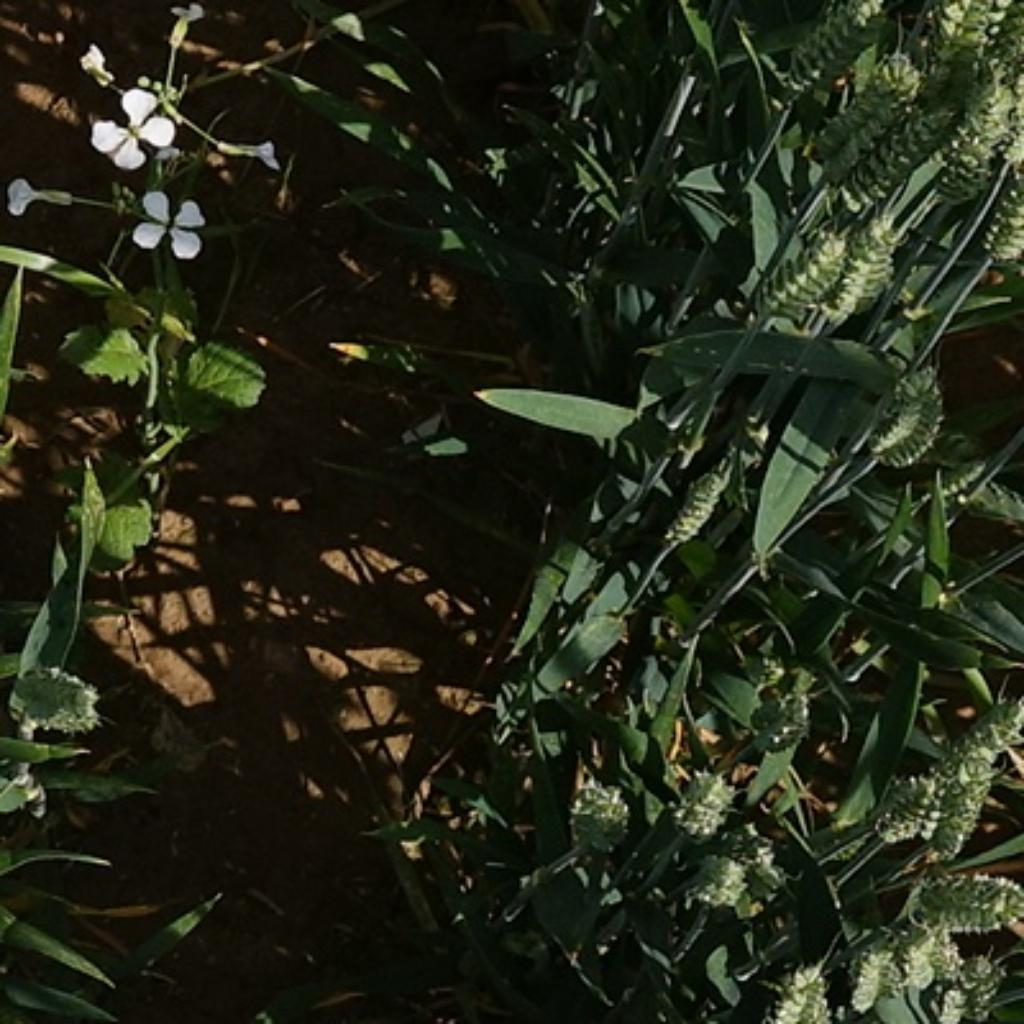0-0: (928, 73, 1013, 225), (842, 104, 940, 219), (742, 225, 847, 332), (908, 704, 1018, 801), (832, 61, 926, 174), (775, 2, 883, 94), (865, 353, 952, 465), (901, 865, 1024, 936), (10, 662, 107, 749), (916, 454, 1024, 532), (834, 215, 916, 317), (737, 665, 821, 755), (924, 768, 1000, 865), (663, 760, 747, 844), (662, 456, 736, 549), (562, 776, 632, 853), (678, 847, 757, 911), (835, 943, 900, 1015), (903, 931, 971, 995), (875, 778, 939, 844), (983, 183, 1024, 263)
